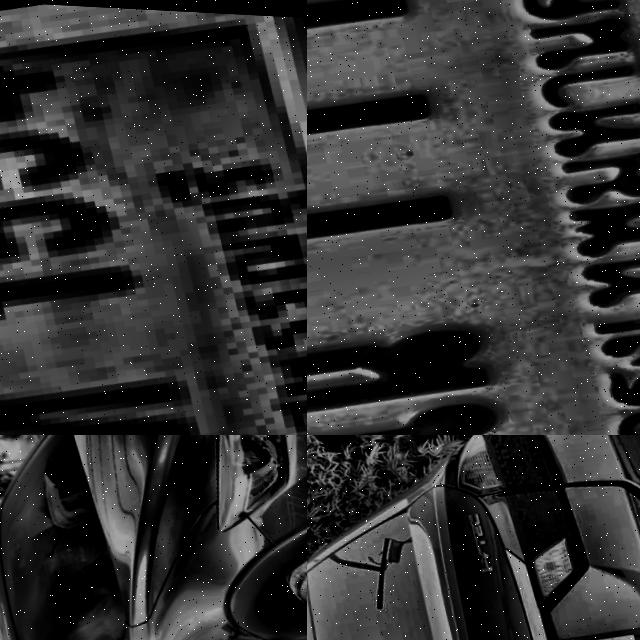license-plate: (307, 0, 640, 435), (0, 0, 307, 435)
